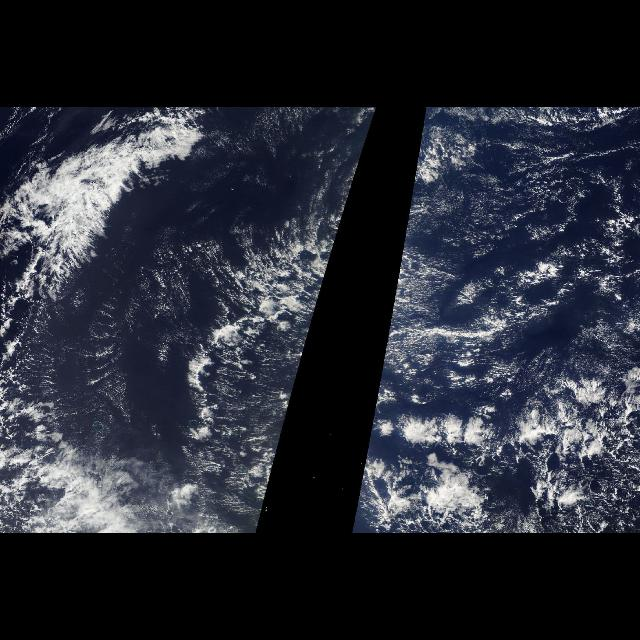Flower: (370, 379, 640, 533)
Gravel: (429, 396, 625, 528)
Sugar: (18, 108, 372, 444), (373, 110, 637, 418)
